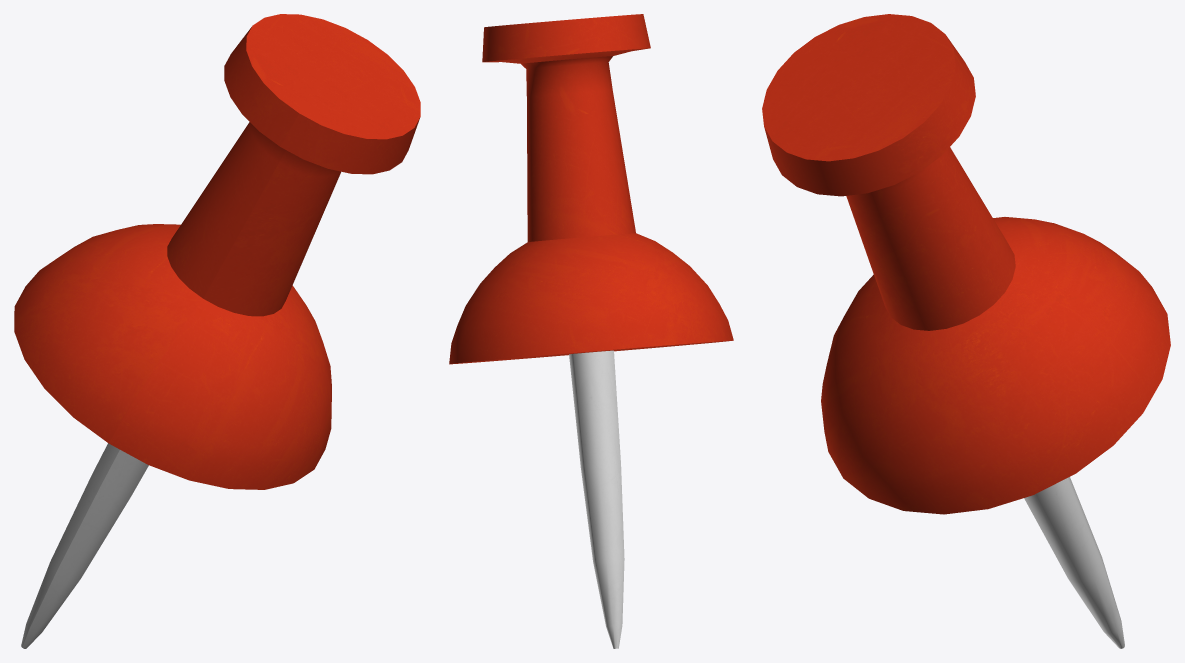
The model's file is plaggy_cc0-pin-569.glb.
3 renders of one model, left to right at view 1: azimuth 30°, elevation 25°; view 2: azimuth 150°, elevation 25°; view 3: azimuth 270°, elevation 25°, orthographic. The views are drawn at different scales.
Parts seen in each view (by area): view 1: Pin2; view 2: Pin2; view 3: Pin2.
Part boxes in pixels (x1,y1,x2,y2): Pin2: (14, 14, 420, 648); Pin2: (449, 14, 733, 648); Pin2: (762, 14, 1170, 648).
Size of the model in its own units: 1.08 by 2.11 by 1.12.
Materials: 1 (1 with a texture image).
